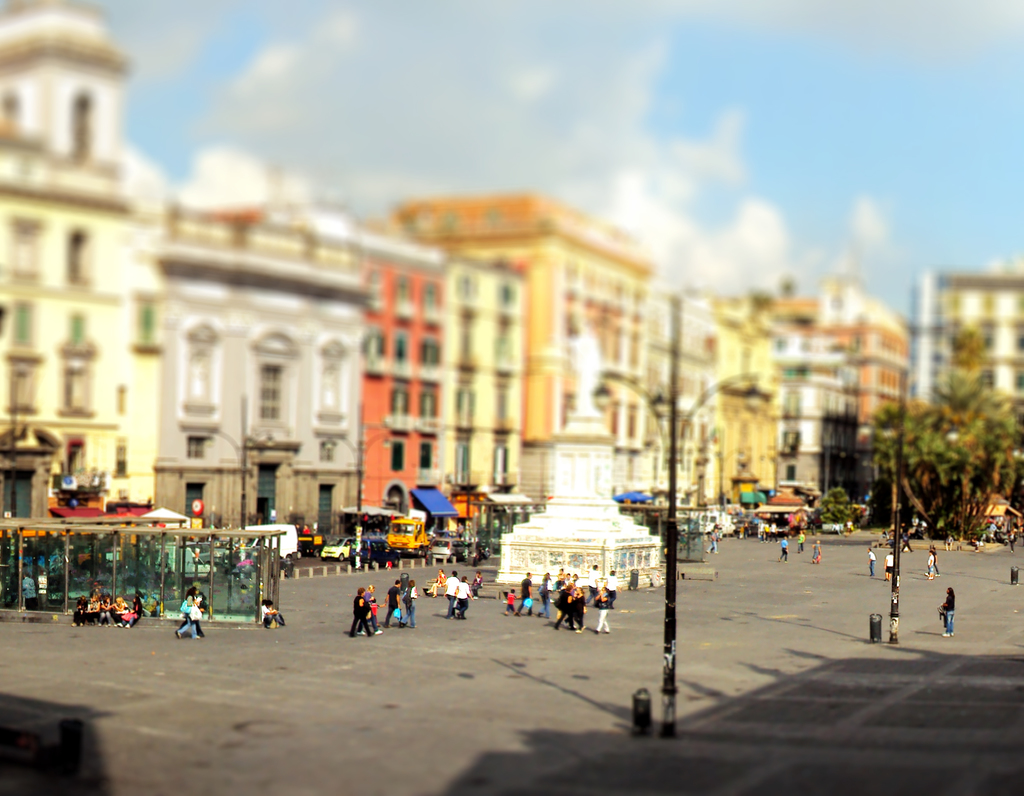Tree: (870, 362, 1023, 547), (813, 485, 854, 525)
